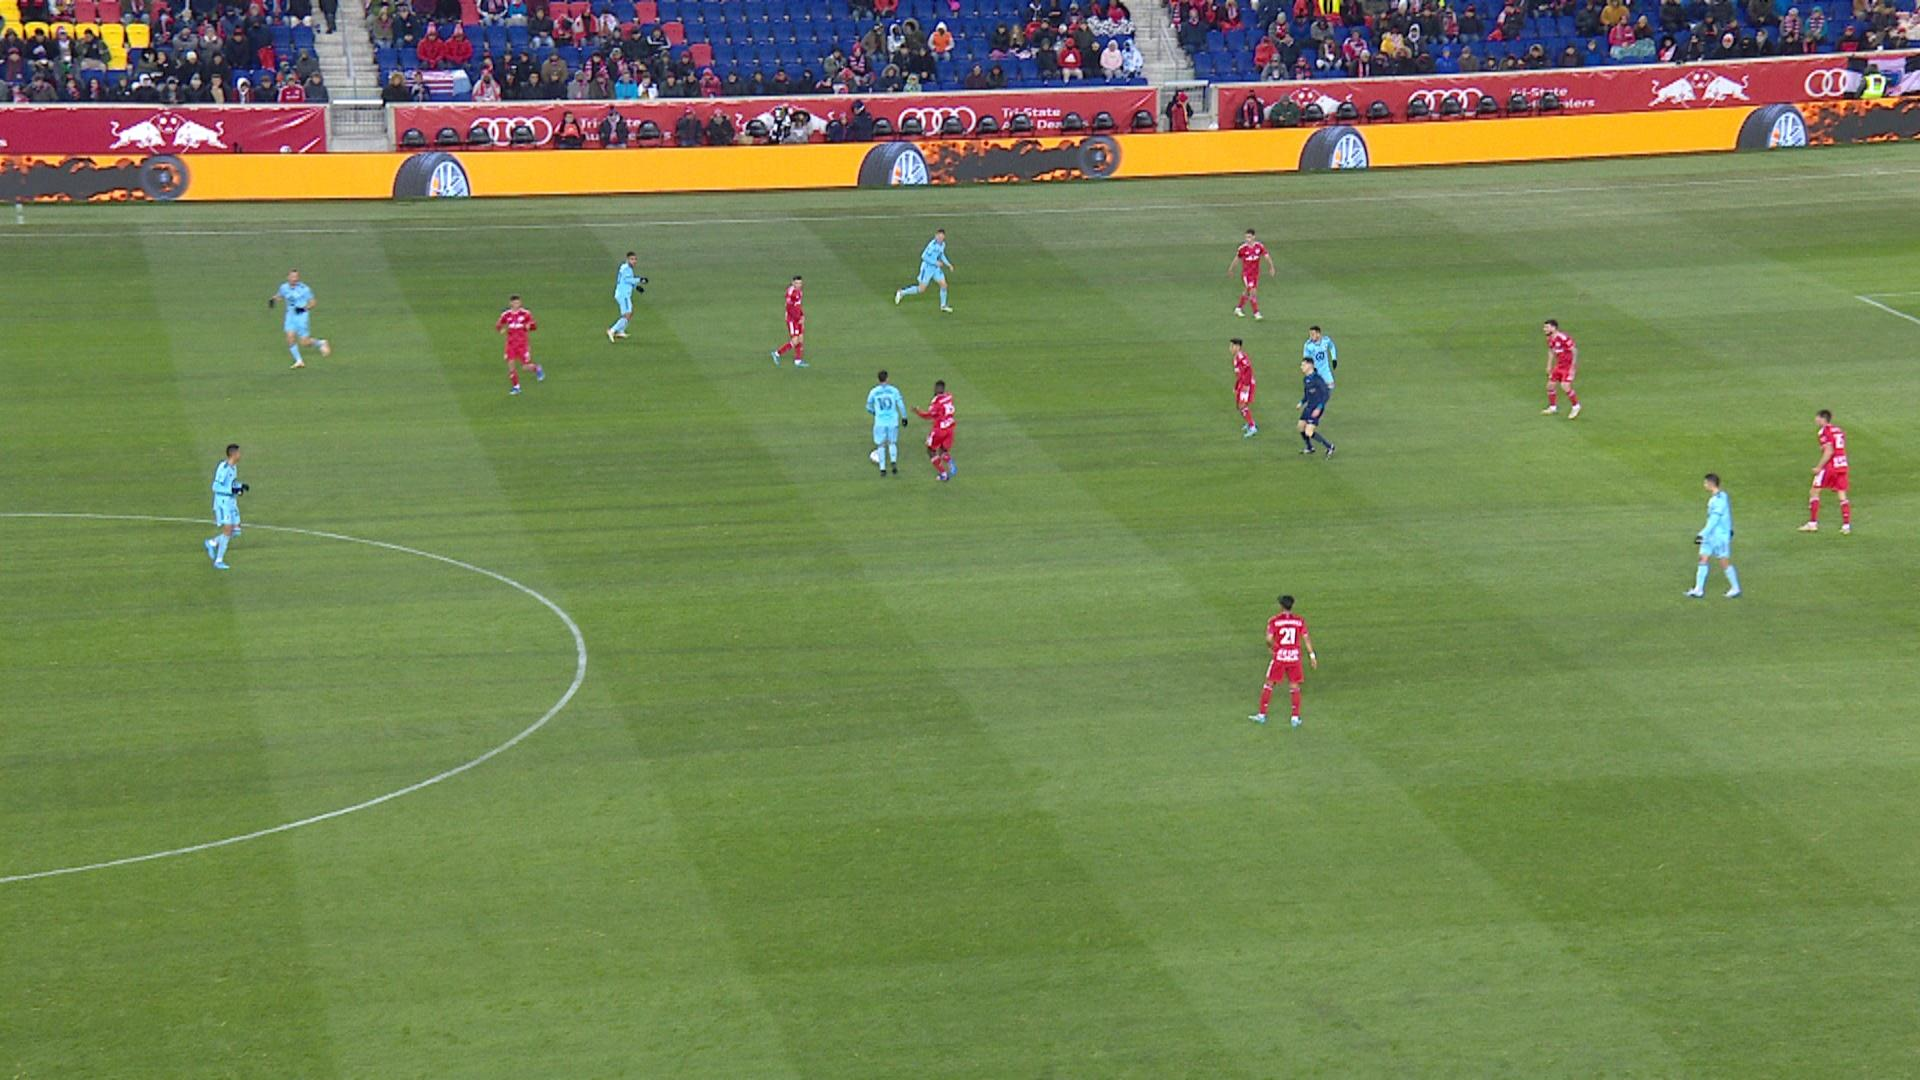football: (868, 448, 879, 465)
